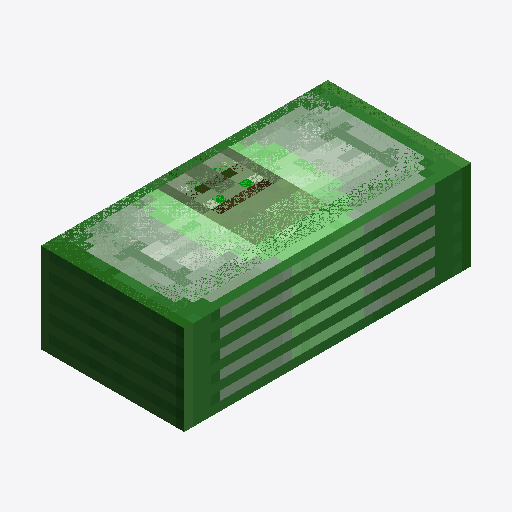
A Minecraft block model of 22 cuboids, rendered isometrically (azimuth 45°, elevation 35.3°) with the resource pack's own textures.
Visible parts, largest first — element 22, element 6, element 14, element 18, element 2, element 10, element 5, element 13, element 9, element 21, element 17.
Part boxes in pixels (bbox=[...]): element 22: bbox=[41, 80, 470, 327]; element 6: bbox=[184, 225, 470, 410]; element 14: bbox=[184, 184, 470, 369]; element 18: bbox=[184, 163, 470, 348]; element 2: bbox=[184, 246, 470, 431]; element 10: bbox=[184, 205, 470, 389]; element 5: bbox=[41, 329, 183, 431]; element 13: bbox=[41, 287, 183, 389]; element 9: bbox=[41, 308, 183, 410]; element 21: bbox=[41, 246, 183, 348]; element 17: bbox=[41, 267, 183, 368].
Bounding box in the file's own units: 16 × 5 × 8.